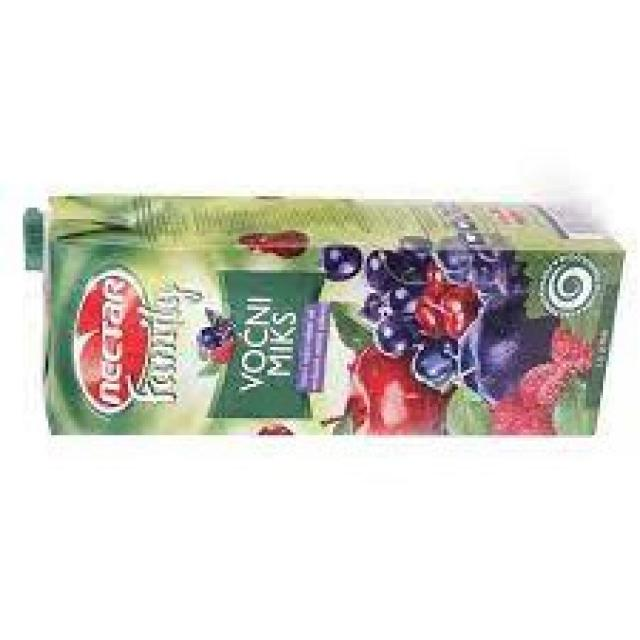non_white_jug: (15, 183, 630, 445)
